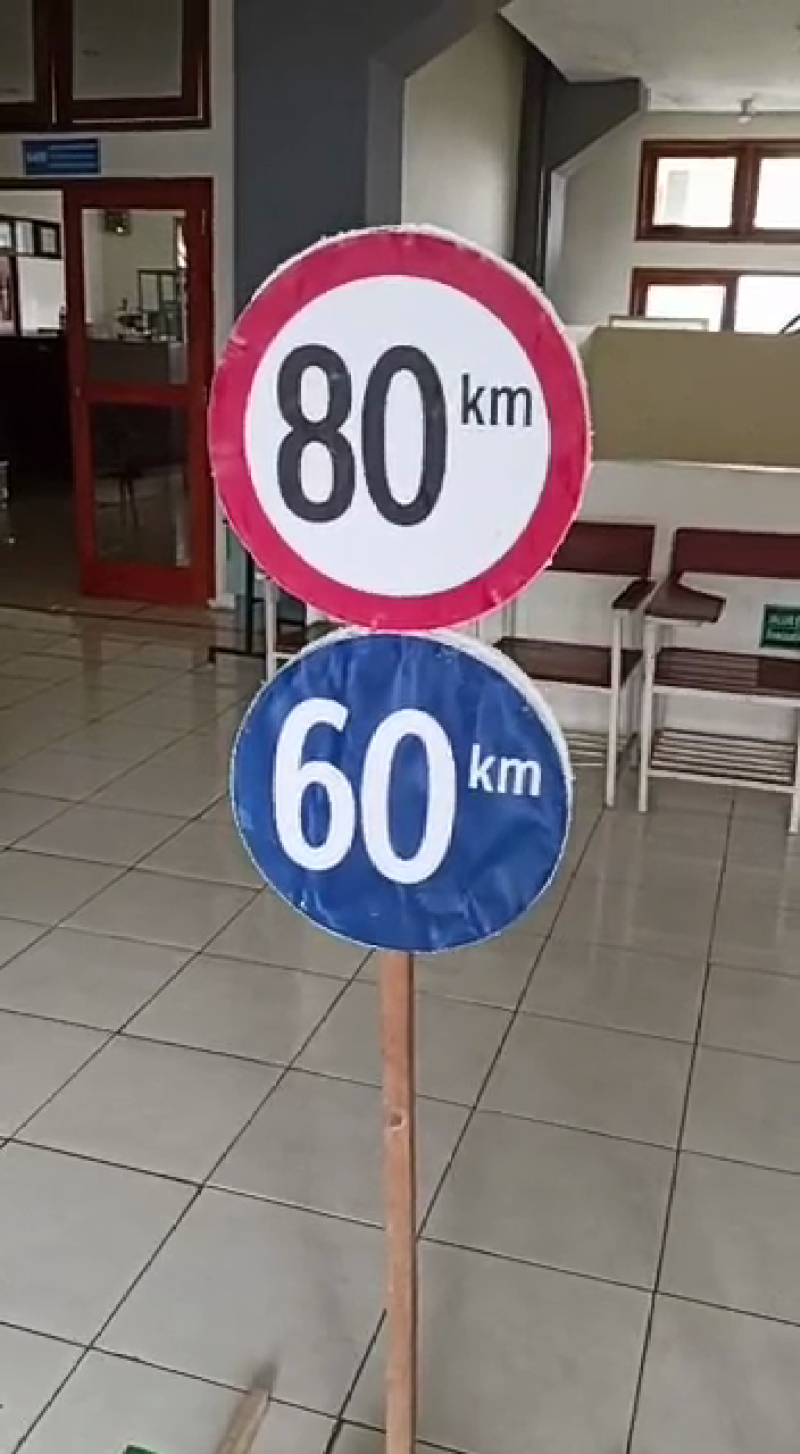batas maksimal 80kmperjam minimal 60kmperjam: (200, 212, 587, 964)
